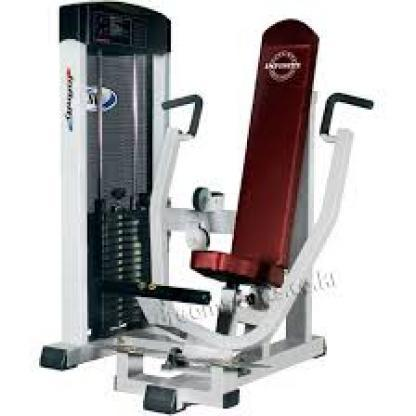Chest Press machine: (38, 0, 376, 416)
